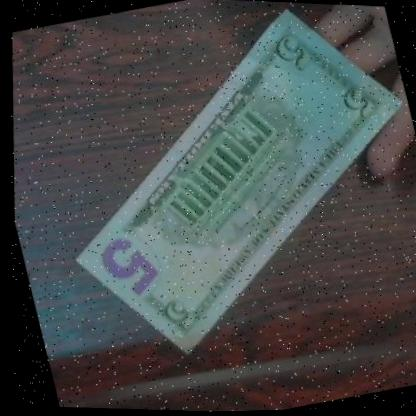five-back: (0, 0, 416, 397)
